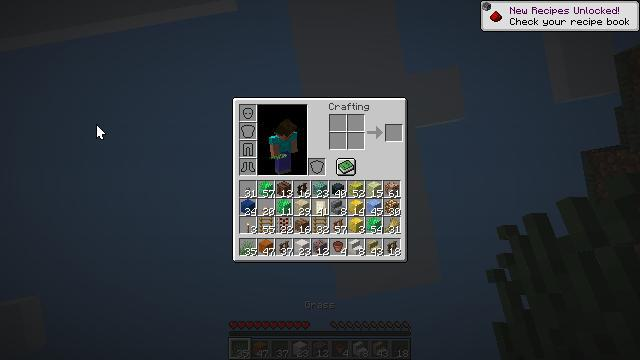cursor: (124, 96, 140, 106)
